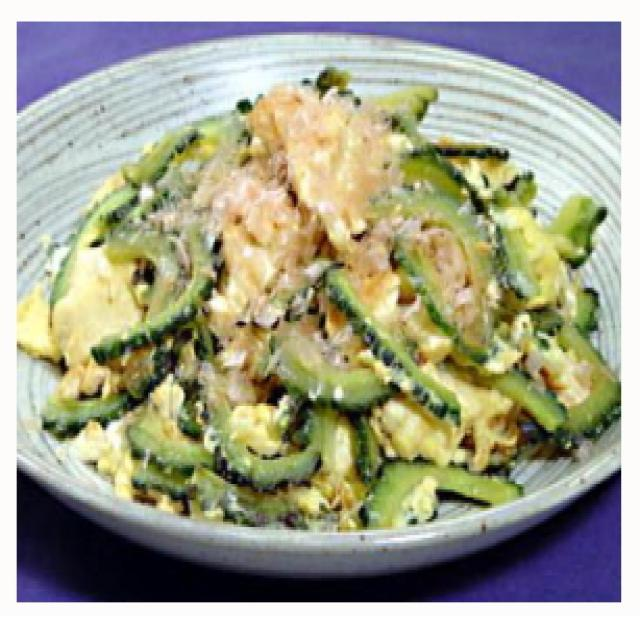熟制海鲜: (13, 16, 619, 602)
